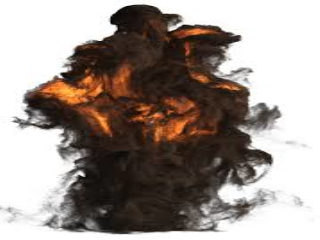smoke: (45, 22, 264, 218)
